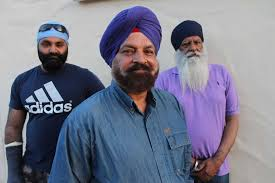helmet: (98, 5, 162, 86), (171, 19, 209, 77)
